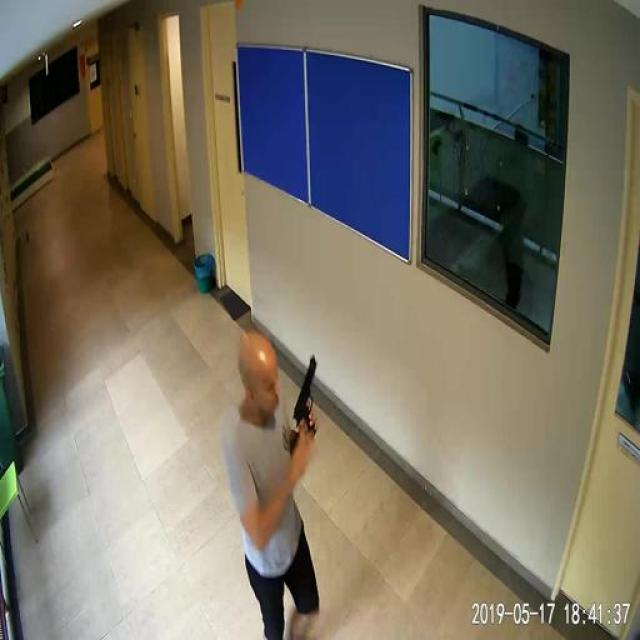Gun: (287, 346, 325, 452)
